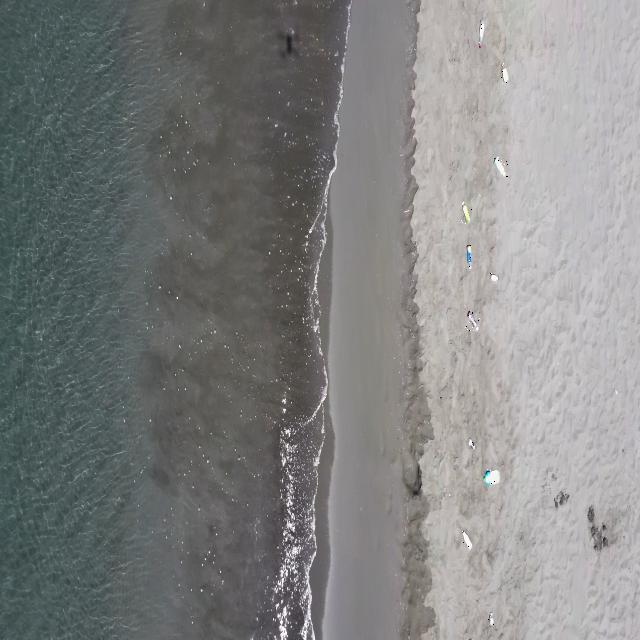Garbage: (493, 156, 507, 176), (553, 489, 568, 507), (483, 468, 499, 484), (460, 201, 470, 223), (477, 20, 484, 47), (467, 311, 477, 329), (500, 64, 507, 83), (464, 531, 472, 547), (467, 243, 472, 267), (488, 272, 497, 280), (487, 612, 492, 626), (467, 439, 475, 447)
